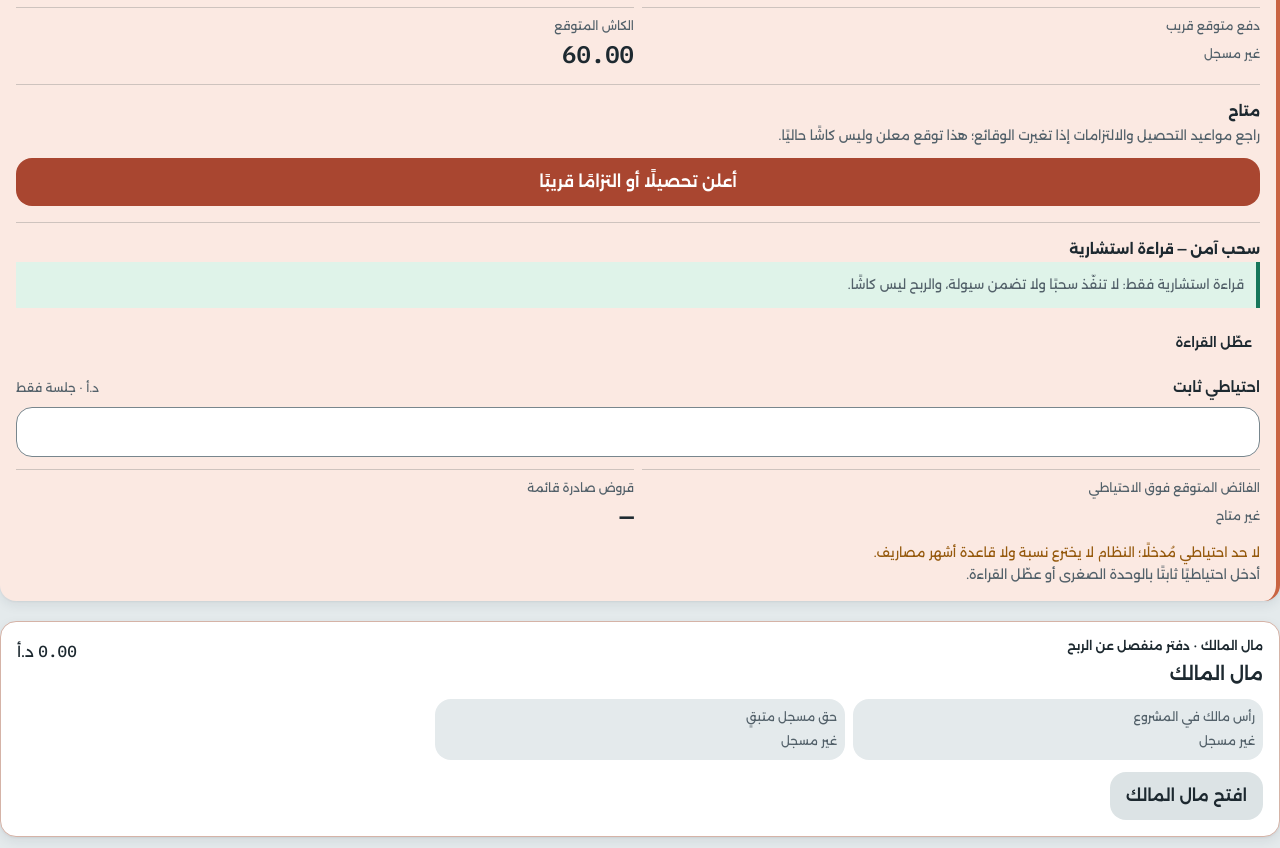
Test: FIN-004 (WS-176 — Wave 4): advisory safe-withdrawal reading on the cash decision › derives headroom = projected cash − reserve once a valid reserve is entered, without any write
(page scrolled)
Expected: the text "احتياطي ثابت" is shown, [1173,378,1260,396]
Expected: the text "الكاش المتوقع" is shown, [554,18,634,33]
In the field labelled "احتياطي ثابت د.أ · جلسة فقط": (638, 432) [16,407,1260,457], type "30.00"
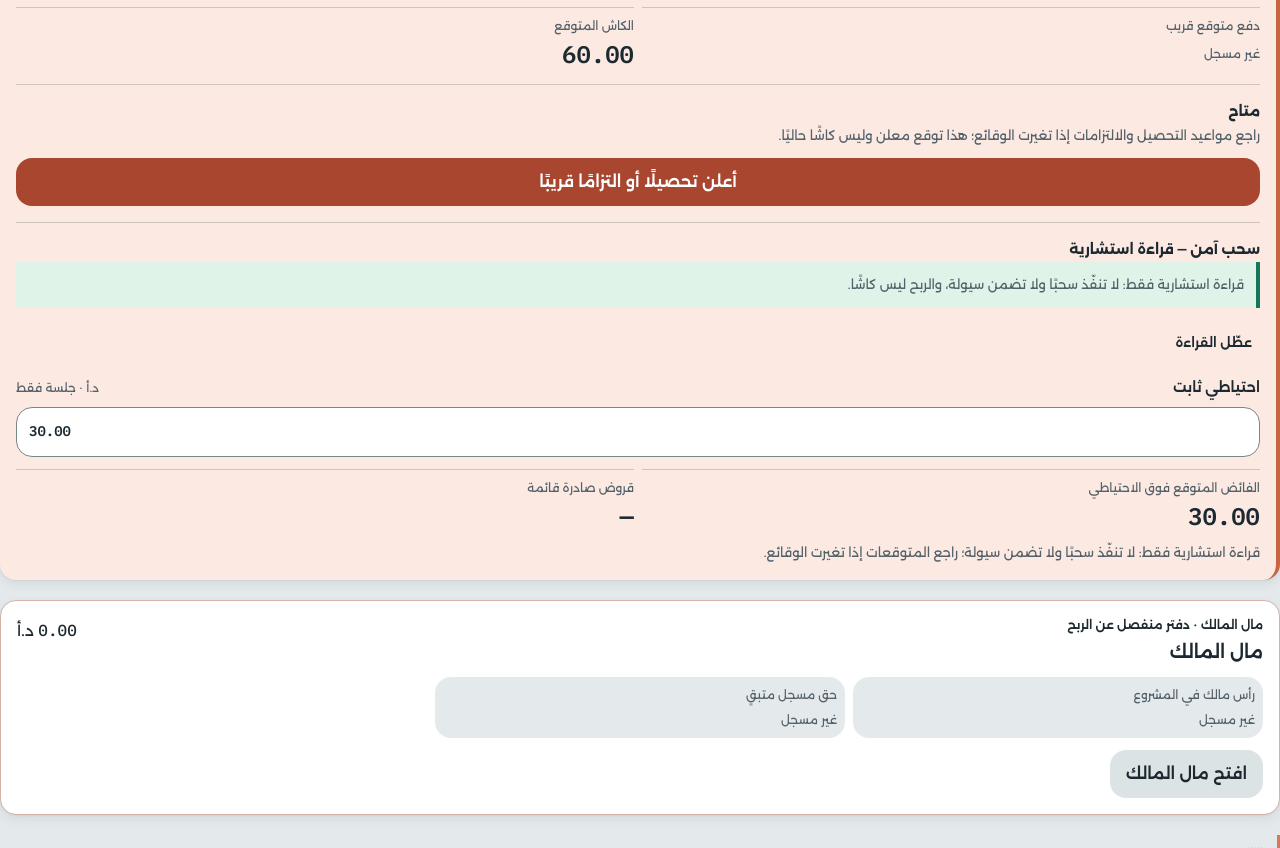
Expected: the text "30.00" is shown, [1188,500,1260,532]
